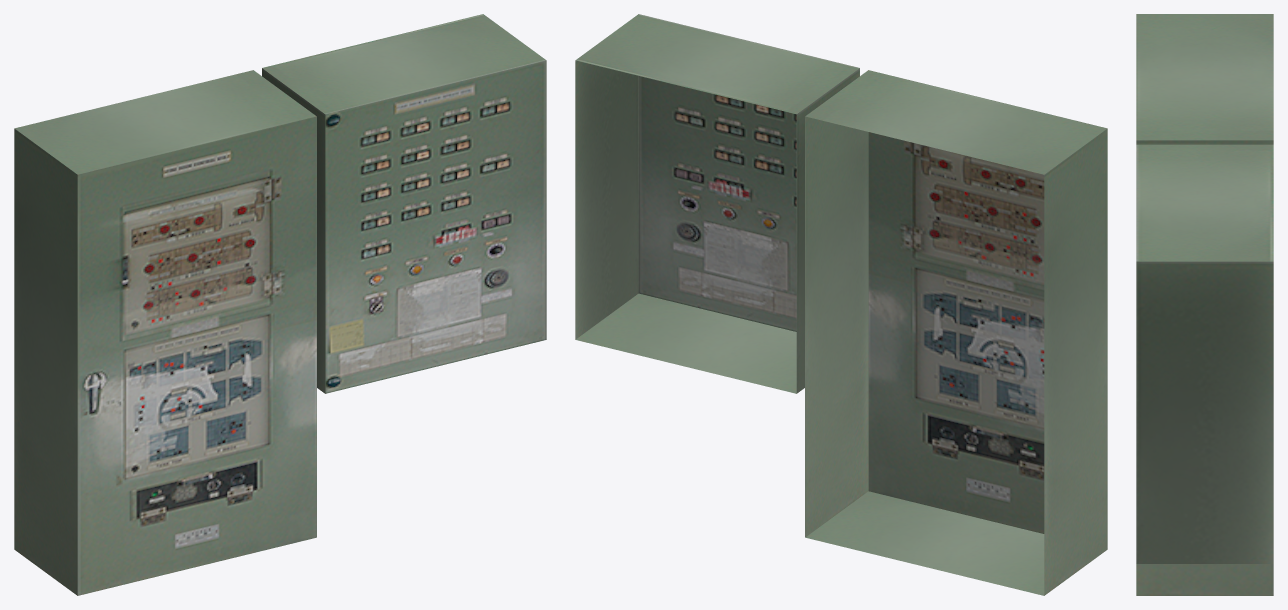
Rendered from Machine_box01.FBX.
3 views of the same model, side by side, from view 1: azimuth 30°, elevation 25°; view 2: azimuth 150°, elevation 25°; view 3: azimuth 270°, elevation 25° (orthographic). The views are drawn at different scales.
Parts seen in each view (by area): view 1: Machine_box01; view 2: Machine_box01; view 3: Machine_box01.
Boxes of the visible parts, <box> form: Machine_box01: <box>14,14,546,595</box>; Machine_box01: <box>575,14,1107,595</box>; Machine_box01: <box>1136,14,1273,595</box>.
Size of the model in its own units: 1.3 by 1.11 by 0.3038.
